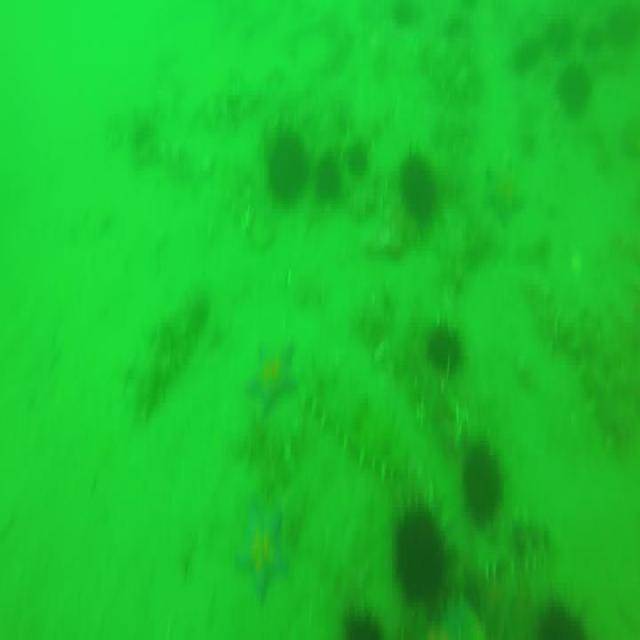echinus: (396, 499, 450, 607), (463, 443, 504, 523), (399, 148, 438, 224), (269, 128, 304, 210), (536, 597, 592, 640), (561, 62, 594, 120), (432, 318, 462, 371), (510, 35, 544, 79), (342, 600, 378, 640), (318, 144, 342, 202)
holothurian: (122, 292, 218, 414), (296, 378, 412, 476), (469, 514, 559, 580)
starfish: (234, 499, 292, 602), (244, 336, 298, 416)
